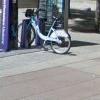Bicycle: (21, 3, 83, 61)
